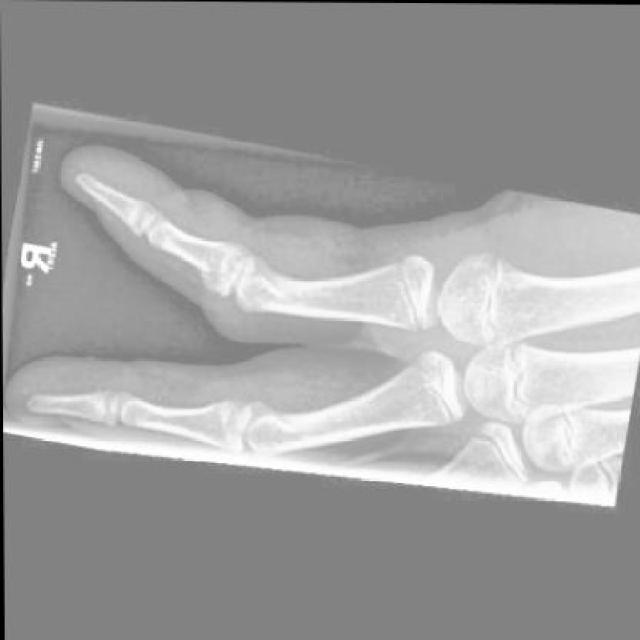Fracture: (196, 232, 250, 296)
